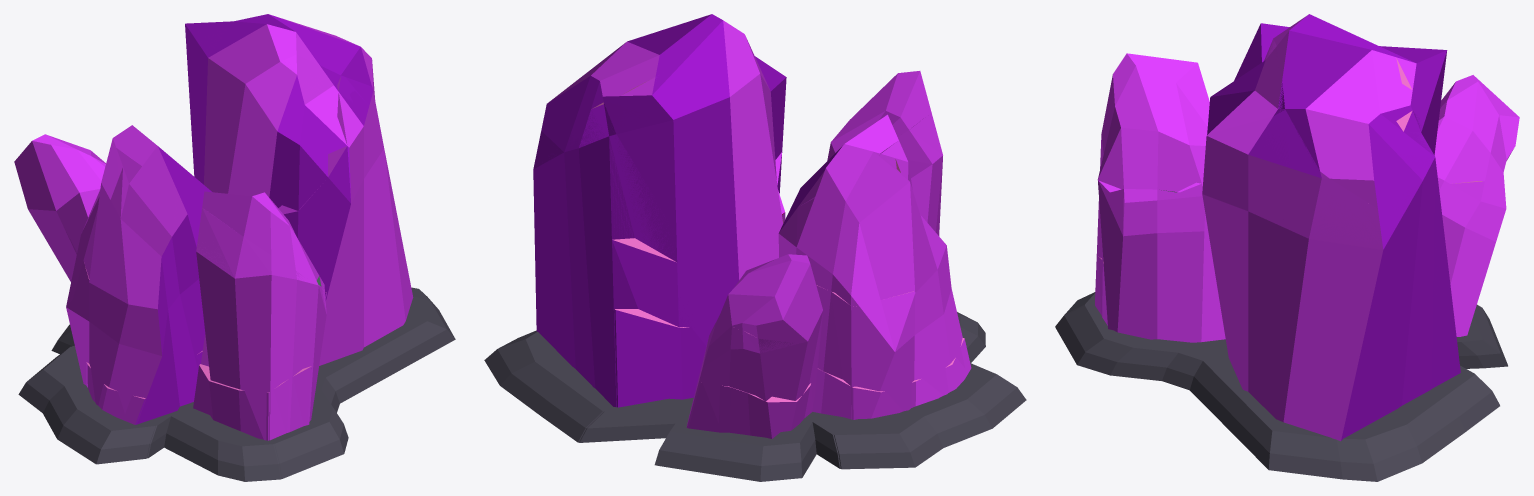
Rendered from OpalSet.fbx.
3 views of the same model, side by side, from view 1: azimuth 30°, elevation 25°; view 2: azimuth 150°, elevation 25°; view 3: azimuth 270°, elevation 25° (orthographic). The views are drawn at different scales.
Parts seen in each view (by area): view 1: Opal1, Opal2, Opal3, Opal4, Opal5, Opal6; view 2: Opal1, Opal5, Opal2, Opal3, Opal4, Opal6; view 3: Opal1, Opal2, Opal3, Opal4, Opal5, Opal6.
Part boxes in pixels (left/top/right/bottom): Opal1: left=14, top=14, right=454, bottom=478; Opal2: left=15, top=18, right=444, bottom=478; Opal3: left=17, top=78, right=454, bottom=467; Opal4: left=58, top=75, right=455, bottom=478; Opal5: left=23, top=292, right=326, bottom=481; Opal6: left=18, top=324, right=322, bottom=481; Opal1: left=493, top=14, right=971, bottom=468; Opal5: left=537, top=309, right=995, bottom=481; Opal2: left=499, top=34, right=965, bottom=468; Opal3: left=525, top=104, right=994, bottom=468; Opal4: left=484, top=124, right=993, bottom=461; Opal6: left=587, top=312, right=1026, bottom=479; Opal1: left=1055, top=14, right=1519, bottom=481; Opal2: left=1056, top=24, right=1516, bottom=481; Opal3: left=1084, top=81, right=1515, bottom=458; Opal4: left=1087, top=110, right=1505, bottom=481; Opal5: left=1055, top=256, right=1507, bottom=438; Opal6: left=1056, top=294, right=1495, bottom=438.
Bounding box in the file's own units: 1.83 × 1.41 × 1.62.
